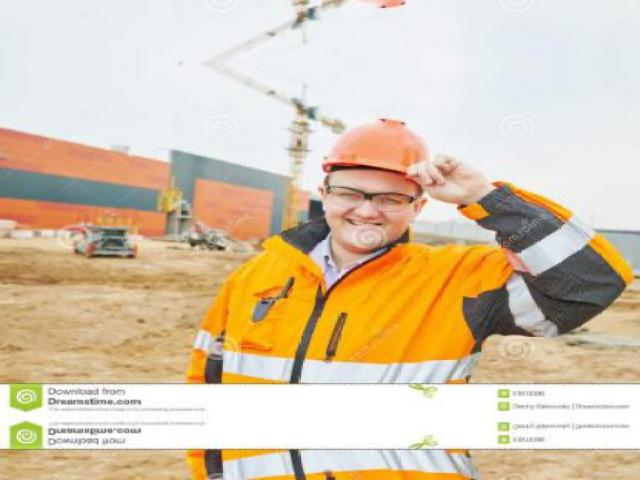Helmet: (316, 113, 434, 189)
